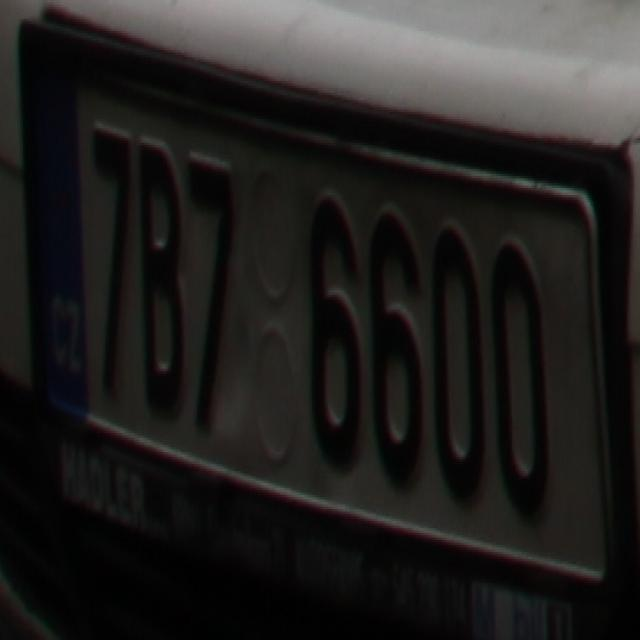0: (484, 230, 556, 512), (432, 220, 488, 500)
6: (368, 202, 426, 490), (308, 186, 366, 464)
7: (182, 142, 238, 430), (90, 122, 130, 386)
B: (134, 133, 186, 419)
